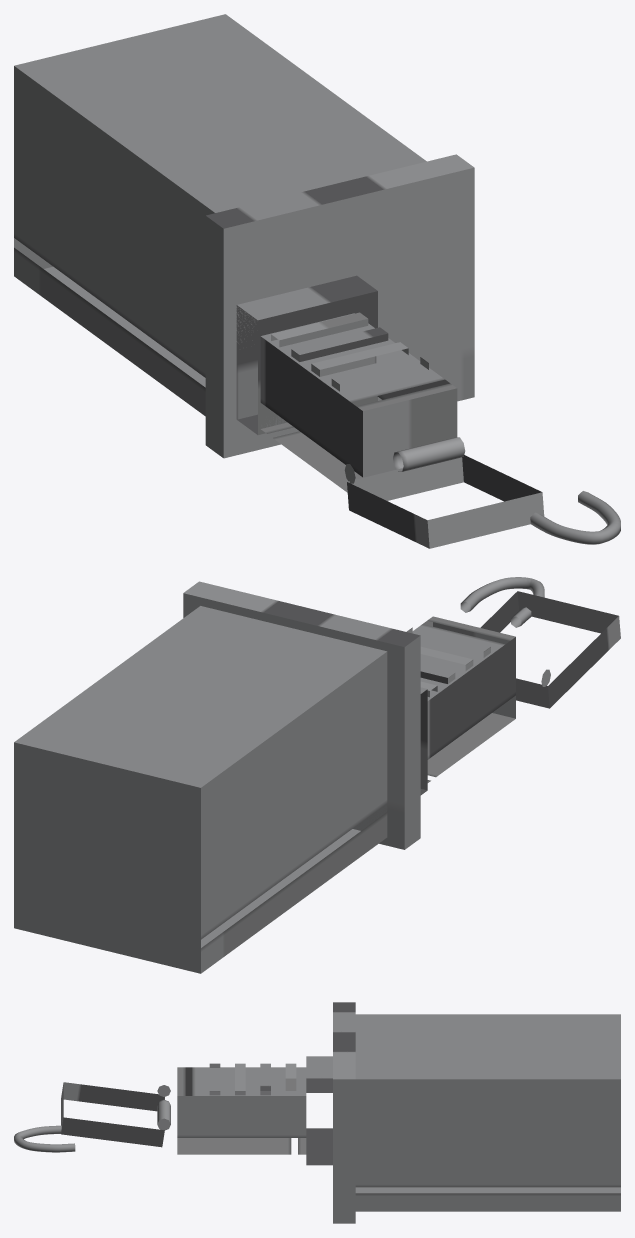
The picture shows the model from 3 angles, top to bottom: view 1: azimuth 30°, elevation 25°; view 2: azimuth 150°, elevation 25°; view 3: azimuth 270°, elevation 25°; orthographic projection. The views are drawn at different scales.
Size of the model in its own units: 0.5 by 0.42 by 1.6.
